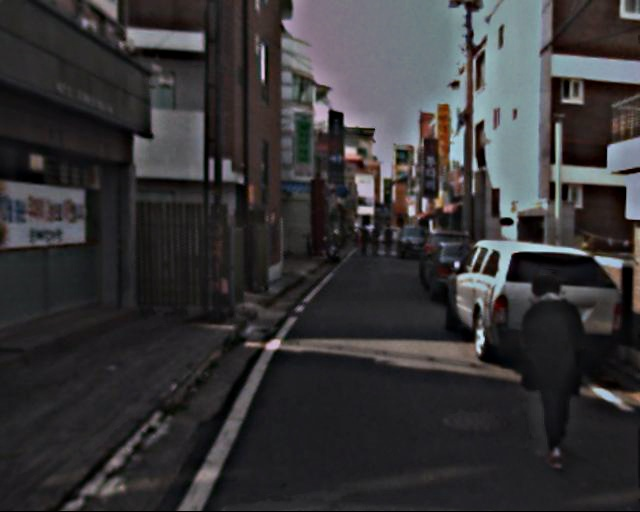person: (504, 269, 593, 471), (363, 227, 398, 263)
